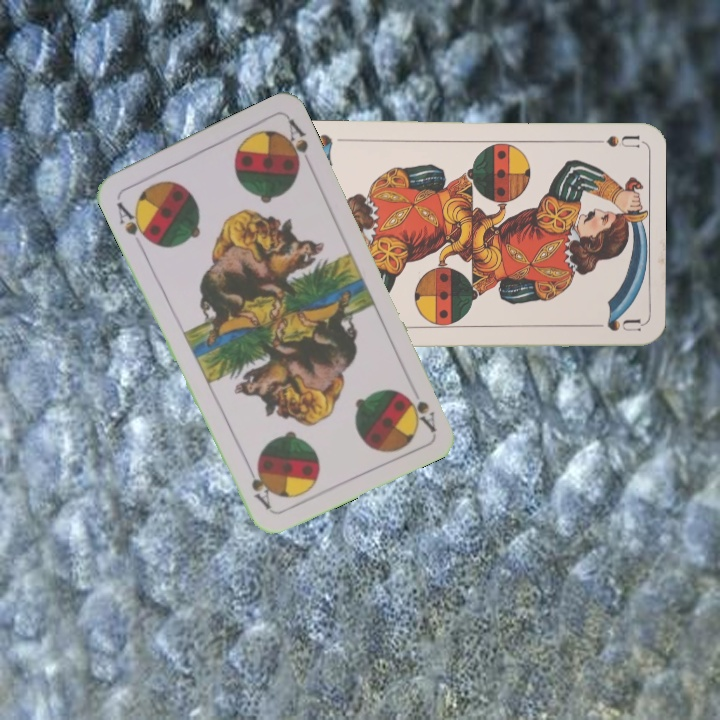SA: (112, 197, 154, 246), (402, 390, 438, 434)
SU: (581, 131, 640, 150)
